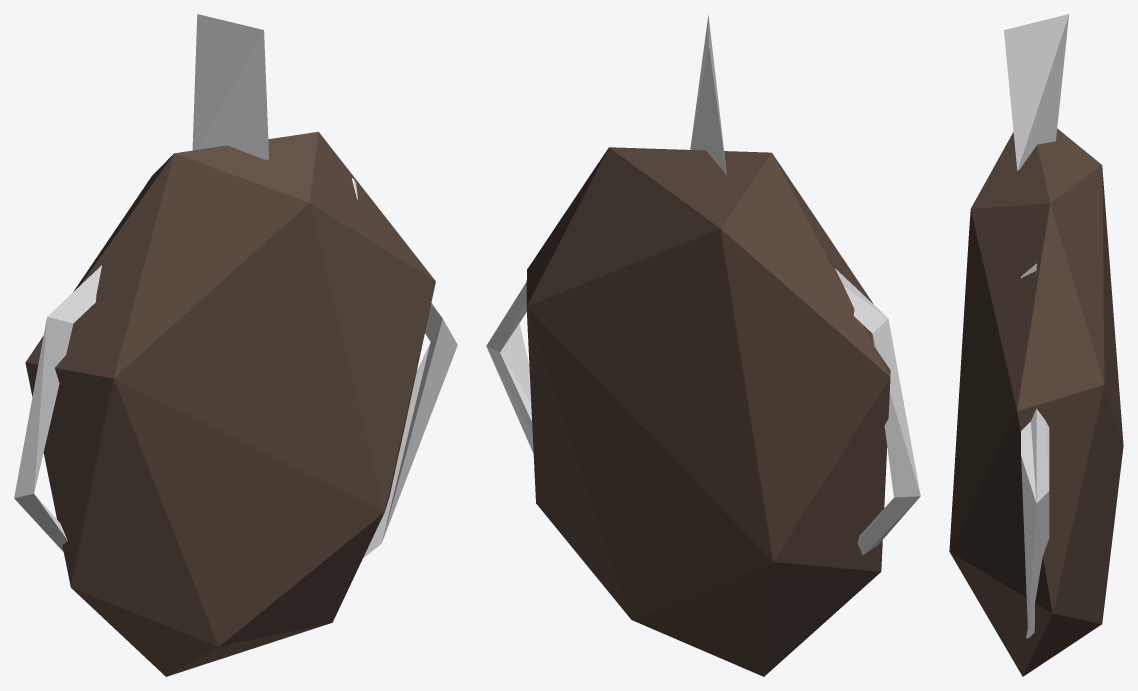
Rendered from powder_flask_lod2.glb.
3 renders of one model, left to right at view 1: azimuth 30°, elevation 25°; view 2: azimuth 150°, elevation 25°; view 3: azimuth 270°, elevation 25°, orthographic. The views are drawn at different scales.
Visible parts, largest first — view 1: m; view 2: m; view 3: m.
Part boxes in pixels (bbox=[...]): m: bbox=[14, 14, 457, 676]; m: bbox=[486, 14, 920, 676]; m: bbox=[949, 14, 1123, 676].
Size of the model in its own units: 0.135 by 0.187 by 0.0466.
